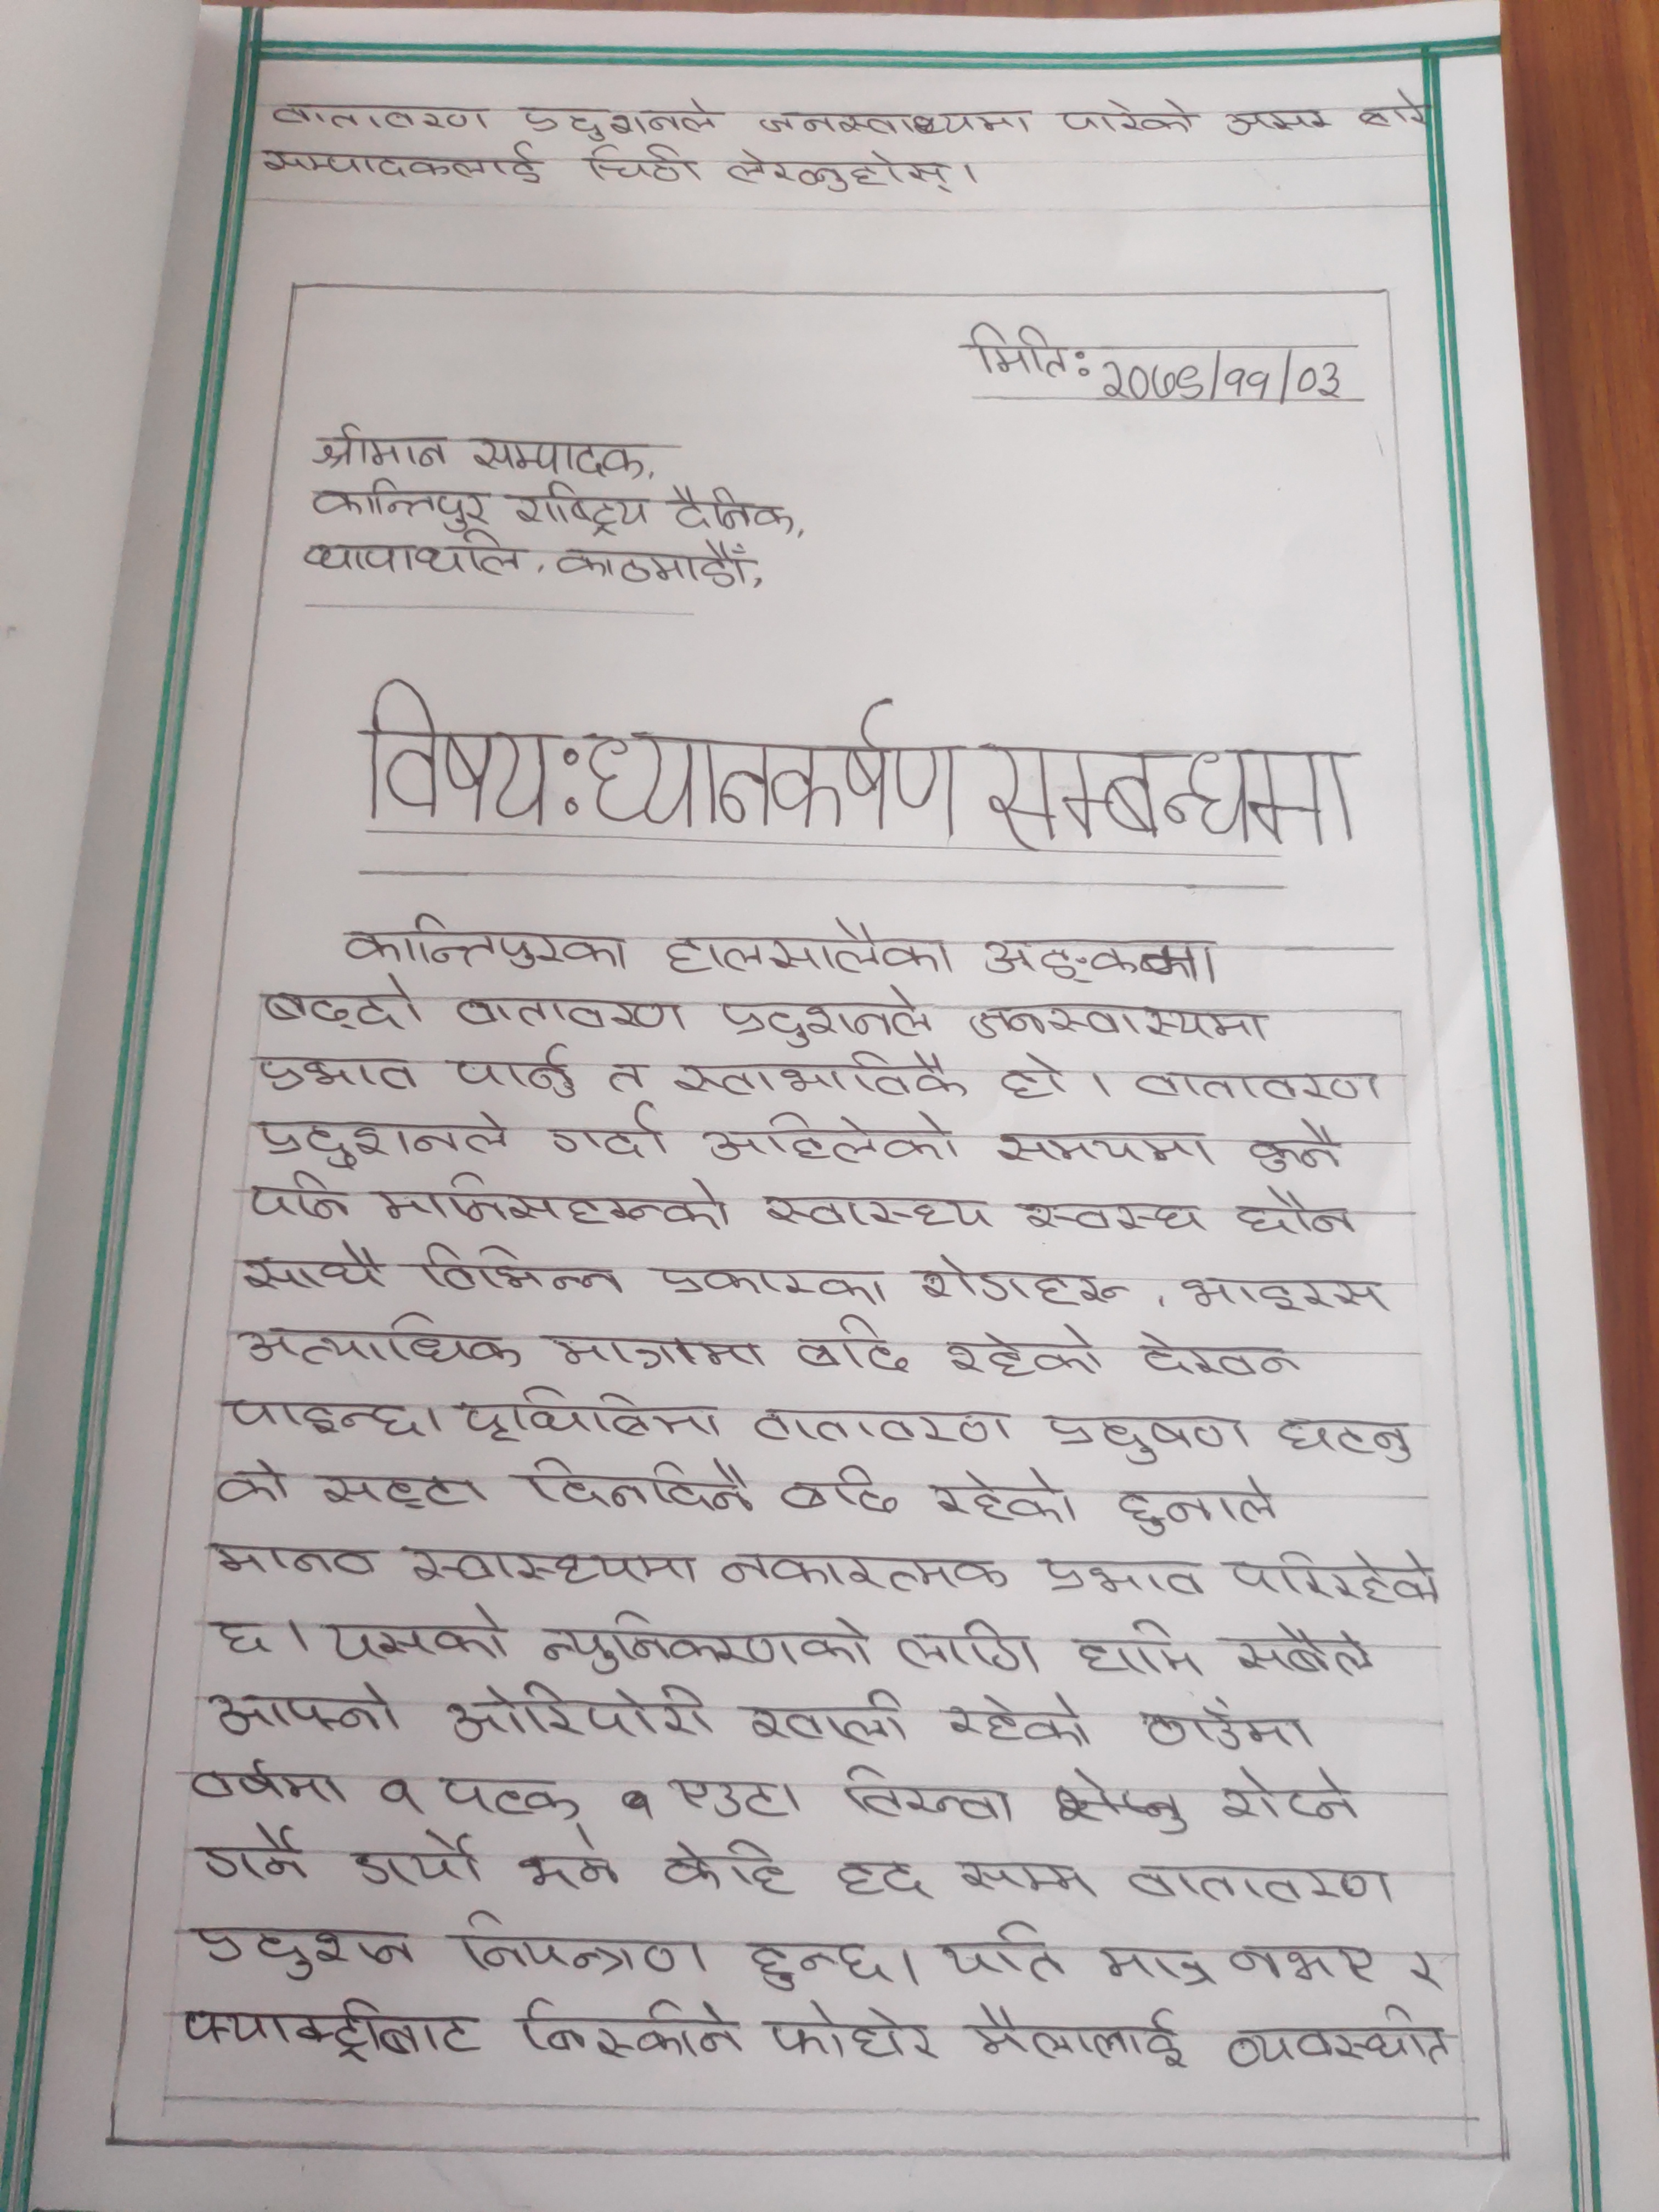text: (587, 695, 962, 843), (978, 737, 1359, 853), (359, 676, 558, 831), (373, 1169, 735, 1233), (538, 1608, 877, 1676), (173, 1994, 488, 2060), (225, 1305, 525, 1372), (664, 916, 962, 981), (444, 1677, 716, 1747), (335, 911, 629, 974), (450, 1909, 708, 1980), (249, 1104, 514, 1170), (965, 991, 1272, 1047), (460, 1379, 725, 1444), (1223, 2001, 1455, 2073), (190, 1916, 418, 1987), (962, 2000, 1190, 2071), (671, 1049, 972, 1103), (716, 979, 934, 1050), (697, 1109, 960, 1167), (512, 1998, 744, 2060), (403, 1541, 697, 1590), (521, 1456, 756, 1517), (981, 932, 1229, 989), (322, 1599, 516, 1672), (1122, 1858, 1399, 1909), (648, 1254, 889, 1310), (720, 1548, 1009, 1594), (211, 1677, 404, 1742), (1232, 1548, 1446, 1606), (1098, 354, 1349, 402), (415, 1237, 627, 1294), (260, 145, 551, 186), (922, 1251, 1126, 1310), (840, 1761, 1018, 1829), (455, 986, 692, 1036), (1114, 1472, 1284, 1540), (765, 1998, 945, 2062), (723, 145, 953, 193), (1044, 1409, 1251, 1463), (748, 1406, 1012, 1447), (301, 531, 528, 580), (1133, 1695, 1317, 1754), (741, 1686, 911, 1749), (260, 972, 425, 1036), (763, 1188, 993, 1233), (221, 1392, 427, 1442), (310, 477, 493, 533), (1131, 1068, 1384, 1108), (993, 1123, 1215, 1169), (545, 1329, 767, 1374), (657, 1829, 796, 1900), (756, 105, 1033, 139), (1213, 1761, 1366, 1824), (558, 540, 748, 590), (943, 1322, 1108, 1379), (924, 1467, 1079, 1527), (518, 96, 718, 143), (1178, 1273, 1399, 1315), (943, 1691, 1094, 1752), (347, 1825, 486, 1892), (1129, 1325, 1298, 1379), (741, 1935, 892, 1994), (235, 1237, 396, 1292), (936, 1918, 1070, 1984), (894, 1616, 1044, 1676), (321, 1463, 490, 1515), (1229, 1622, 1380, 1679), (1035, 1552, 1211, 1601), (253, 1049, 420, 1099), (514, 479, 652, 540), (202, 1536, 380, 1583), (472, 434, 653, 479), (1075, 1616, 1201, 1681), (662, 479, 796, 538), (192, 1759, 347, 1810), (270, 101, 493, 136), (542, 1103, 669, 1163), (448, 1042, 582, 1099), (1227, 1937, 1378, 1987), (793, 1312, 915, 1374), (519, 1822, 624, 1895), (199, 1818, 312, 1885), (1274, 1413, 1410, 1467), (434, 1775, 587, 1820), (779, 1461, 901, 1517), (953, 1855, 1096, 1902), (315, 421, 450, 470), (1236, 1186, 1359, 1237), (667, 1775, 805, 1820), (1016, 1200, 1204, 1233), (1248, 1116, 1349, 1177), (962, 320, 1068, 378), (586, 139, 702, 188), (1056, 96, 1197, 136), (246, 1172, 356, 1221), (1096, 1946, 1218, 1987), (833, 1857, 939, 1902), (993, 1050, 1070, 1108), (213, 1456, 291, 1508), (1356, 85, 1427, 136), (1223, 106, 1328, 138), (375, 1771, 432, 1820), (211, 1616, 272, 1658), (1396, 1949, 1441, 1993), (606, 1057, 653, 1094)
